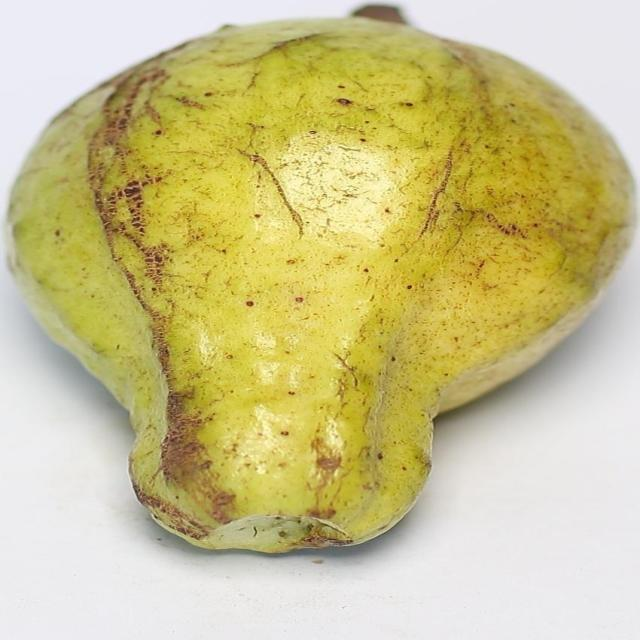Good_Guava: (5, 14, 635, 559)
